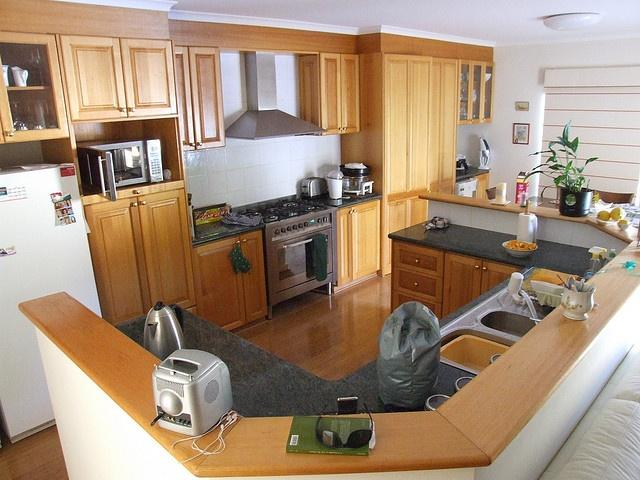Lemari: (357, 51, 456, 275), (82, 183, 196, 327), (299, 51, 360, 135)
